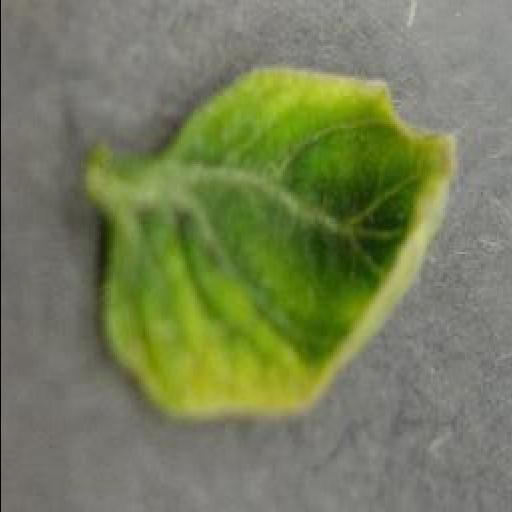disease_tomato: (102, 64, 460, 418)
